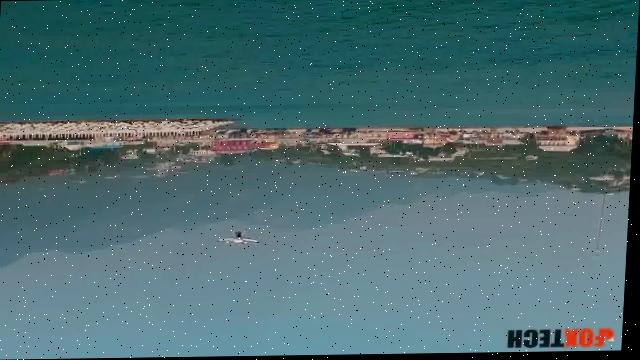drone: (210, 223, 272, 251)
